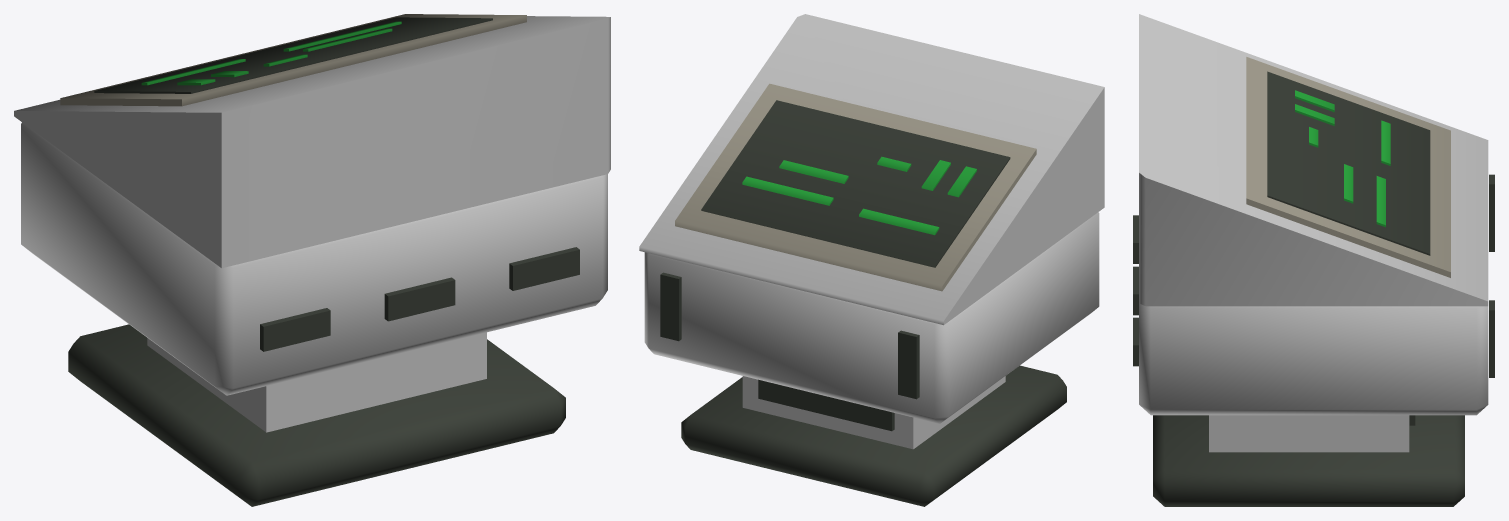
File: ancient_terminal.obj
3 views of the same model, side by side, from view 1: azimuth 30°, elevation 25°; view 2: azimuth 150°, elevation 25°; view 3: azimuth 270°, elevation 25° (orthographic). The views are drawn at different scales.
Visible parts, largest first — view 1: source_component_004, source_component_003, source_component_000, source_component_001, source_component_006, source_component_005, source_component_014, source_component_015, source_component_013; view 2: source_component_004, source_component_003, source_component_006, source_component_000, source_component_005, source_component_001, source_component_002, source_component_017, source_component_016, source_component_008, source_component_007, source_component_009; view 3: source_component_004, source_component_003, source_component_000, source_component_006, source_component_005, source_component_001, source_component_008, source_component_016, source_component_017, source_component_007.
Boxes of the visible parts, box(x1,y1,x2,y2) form: source_component_004: box(14, 16, 610, 268); source_component_003: box(21, 122, 607, 395); source_component_000: box(68, 324, 565, 506); source_component_001: box(147, 332, 486, 432); source_component_006: box(94, 17, 492, 93); source_component_005: box(60, 14, 526, 106); source_component_014: box(384, 277, 455, 321); source_component_015: box(509, 247, 579, 290); source_component_013: box(260, 308, 330, 351); source_component_004: box(639, 14, 1104, 325); source_component_003: box(644, 212, 1099, 423); source_component_006: box(701, 100, 1010, 267); source_component_000: box(681, 365, 1066, 506); source_component_005: box(675, 83, 1036, 291); source_component_001: box(742, 376, 1005, 449); source_component_002: box(758, 379, 894, 431); source_component_017: box(660, 272, 681, 341); source_component_016: box(898, 330, 919, 399); source_component_008: box(742, 176, 833, 205); source_component_007: box(859, 208, 939, 235); source_component_009: box(779, 160, 848, 183); source_component_004: box(1139, 14, 1488, 306); source_component_003: box(1139, 303, 1488, 415); source_component_000: box(1153, 415, 1464, 506); source_component_006: box(1267, 71, 1430, 255); source_component_005: box(1246, 57, 1450, 277); source_component_001: box(1209, 415, 1409, 452); source_component_008: box(1376, 176, 1385, 227); source_component_016: box(1489, 174, 1494, 251); source_component_017: box(1489, 300, 1494, 377); source_component_007: box(1381, 120, 1390, 165).
Size of the model in its own units: 0.82 by 0.83 by 0.777.
